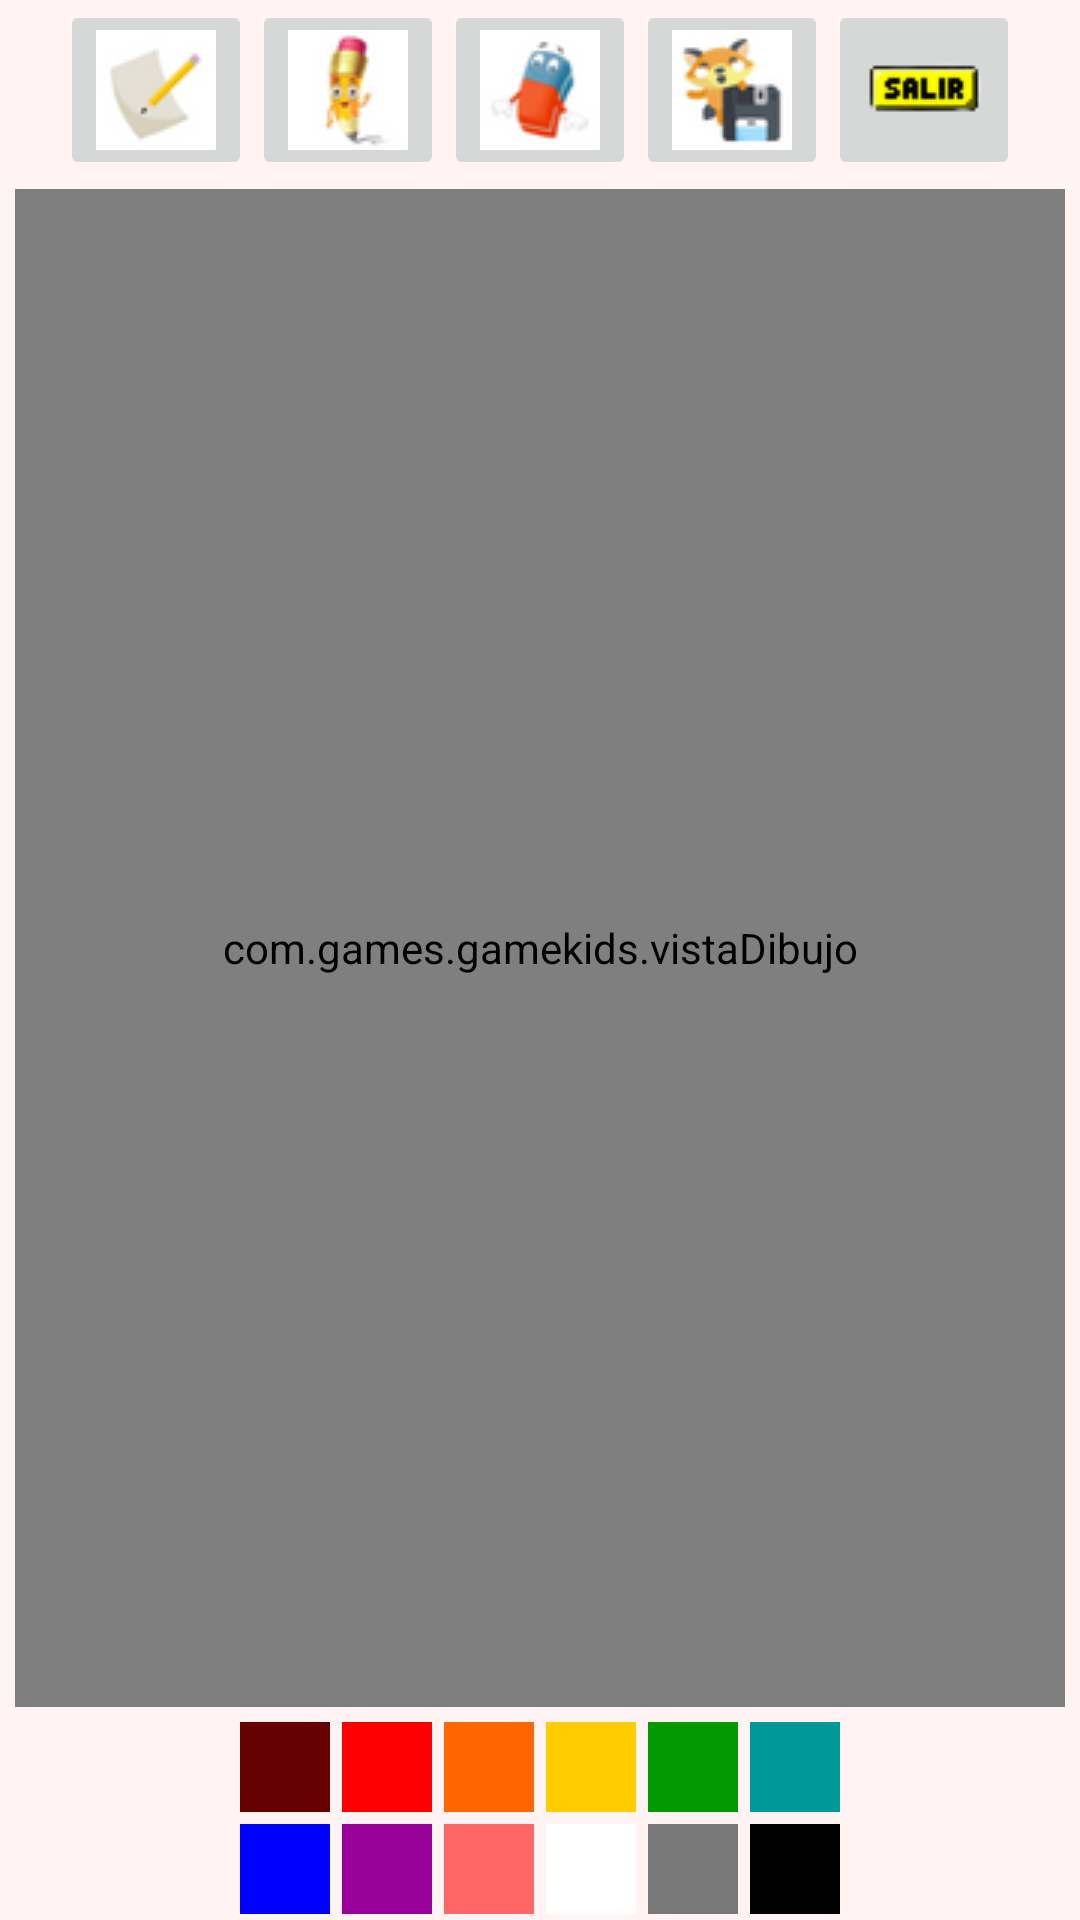

Screen size 1080 x 1920. Icon name, then its center in pixels as (x=x, y=y):
Borrador: (x=540, y=90)
Guardar: (x=732, y=90)
Nuevo: (x=156, y=90)
Pincel: (x=348, y=90)
